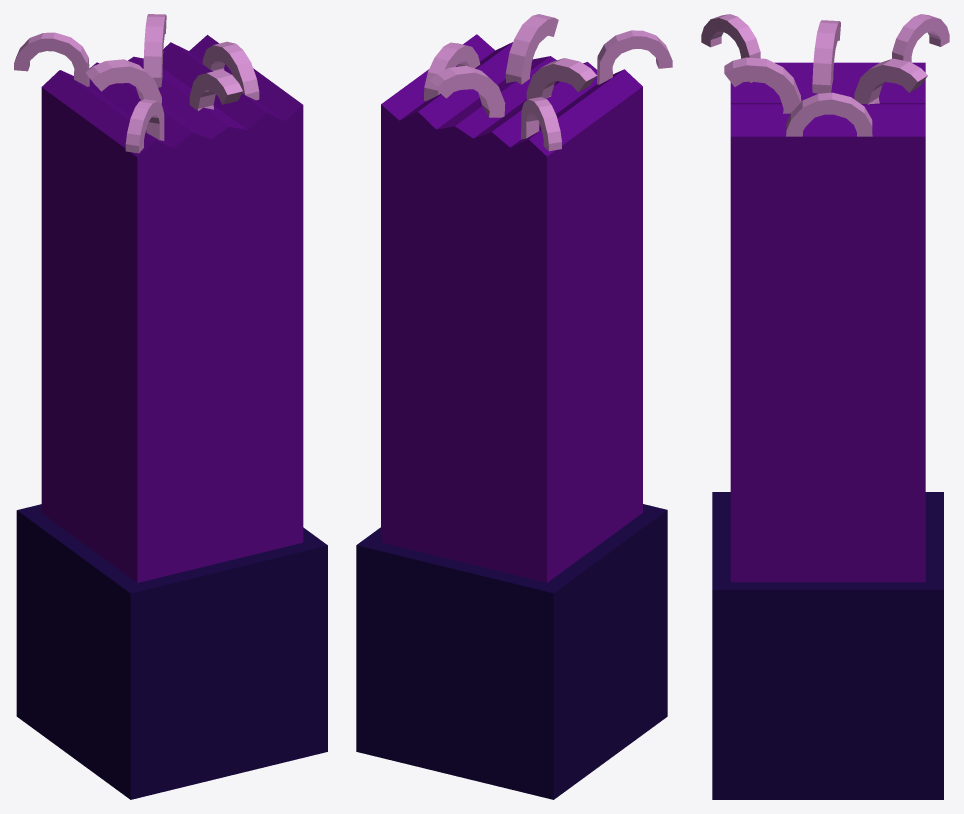
The model's file is FIRST_PART_OF_brokrn_futuristic_lamp.fbx.
3 renders of one model, left to right at view 1: azimuth 30°, elevation 25°; view 2: azimuth 150°, elevation 25°; view 3: azimuth 270°, elevation 25°, orthographic.
Parts seen in each view (by area): view 1: Cube.001; view 2: Cube.001; view 3: Cube.001.
Boxes of the visible parts, bbox=[...] form: Cube.001: bbox=[14, 14, 327, 799]; Cube.001: bbox=[356, 14, 672, 799]; Cube.001: bbox=[701, 14, 949, 799].
Size of the model in its own units: 38.54 by 124 by 40.19.
